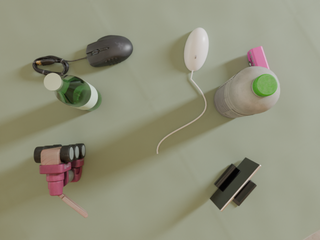bottle: (214, 66, 280, 118), (44, 73, 101, 111)
mouse: (84, 35, 133, 67), (184, 28, 208, 71)
phone: (210, 158, 261, 211)
toy_car: (34, 144, 88, 218), (247, 46, 269, 69)
